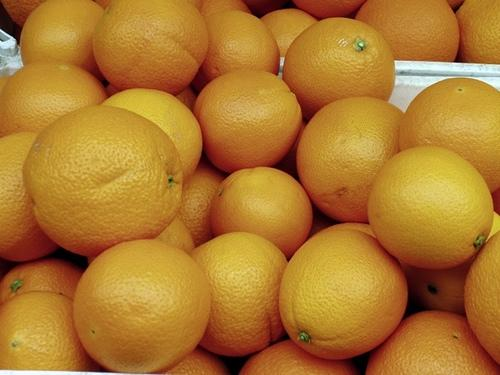orange: (23, 104, 184, 256), (72, 238, 212, 374), (278, 223, 408, 360), (367, 146, 494, 270), (296, 96, 403, 223), (188, 232, 288, 357), (282, 16, 396, 122), (193, 68, 303, 175), (400, 78, 498, 195), (93, 0, 208, 95), (98, 88, 202, 189), (210, 166, 313, 258), (366, 310, 500, 375), (1, 290, 102, 372), (0, 61, 108, 137), (0, 132, 61, 262), (191, 11, 280, 96), (20, 0, 106, 82), (356, 0, 459, 62), (396, 250, 478, 318), (177, 156, 230, 248), (465, 231, 500, 362), (238, 338, 360, 375), (0, 258, 86, 300), (258, 8, 320, 57), (105, 83, 200, 114), (455, 0, 500, 64), (166, 344, 256, 375), (270, 118, 308, 187), (305, 200, 345, 242), (154, 214, 195, 254), (293, 0, 368, 21), (0, 0, 45, 27), (192, 1, 253, 17), (243, 0, 286, 15), (491, 188, 500, 216), (0, 75, 11, 94), (446, 0, 464, 10), (92, 0, 111, 9)
